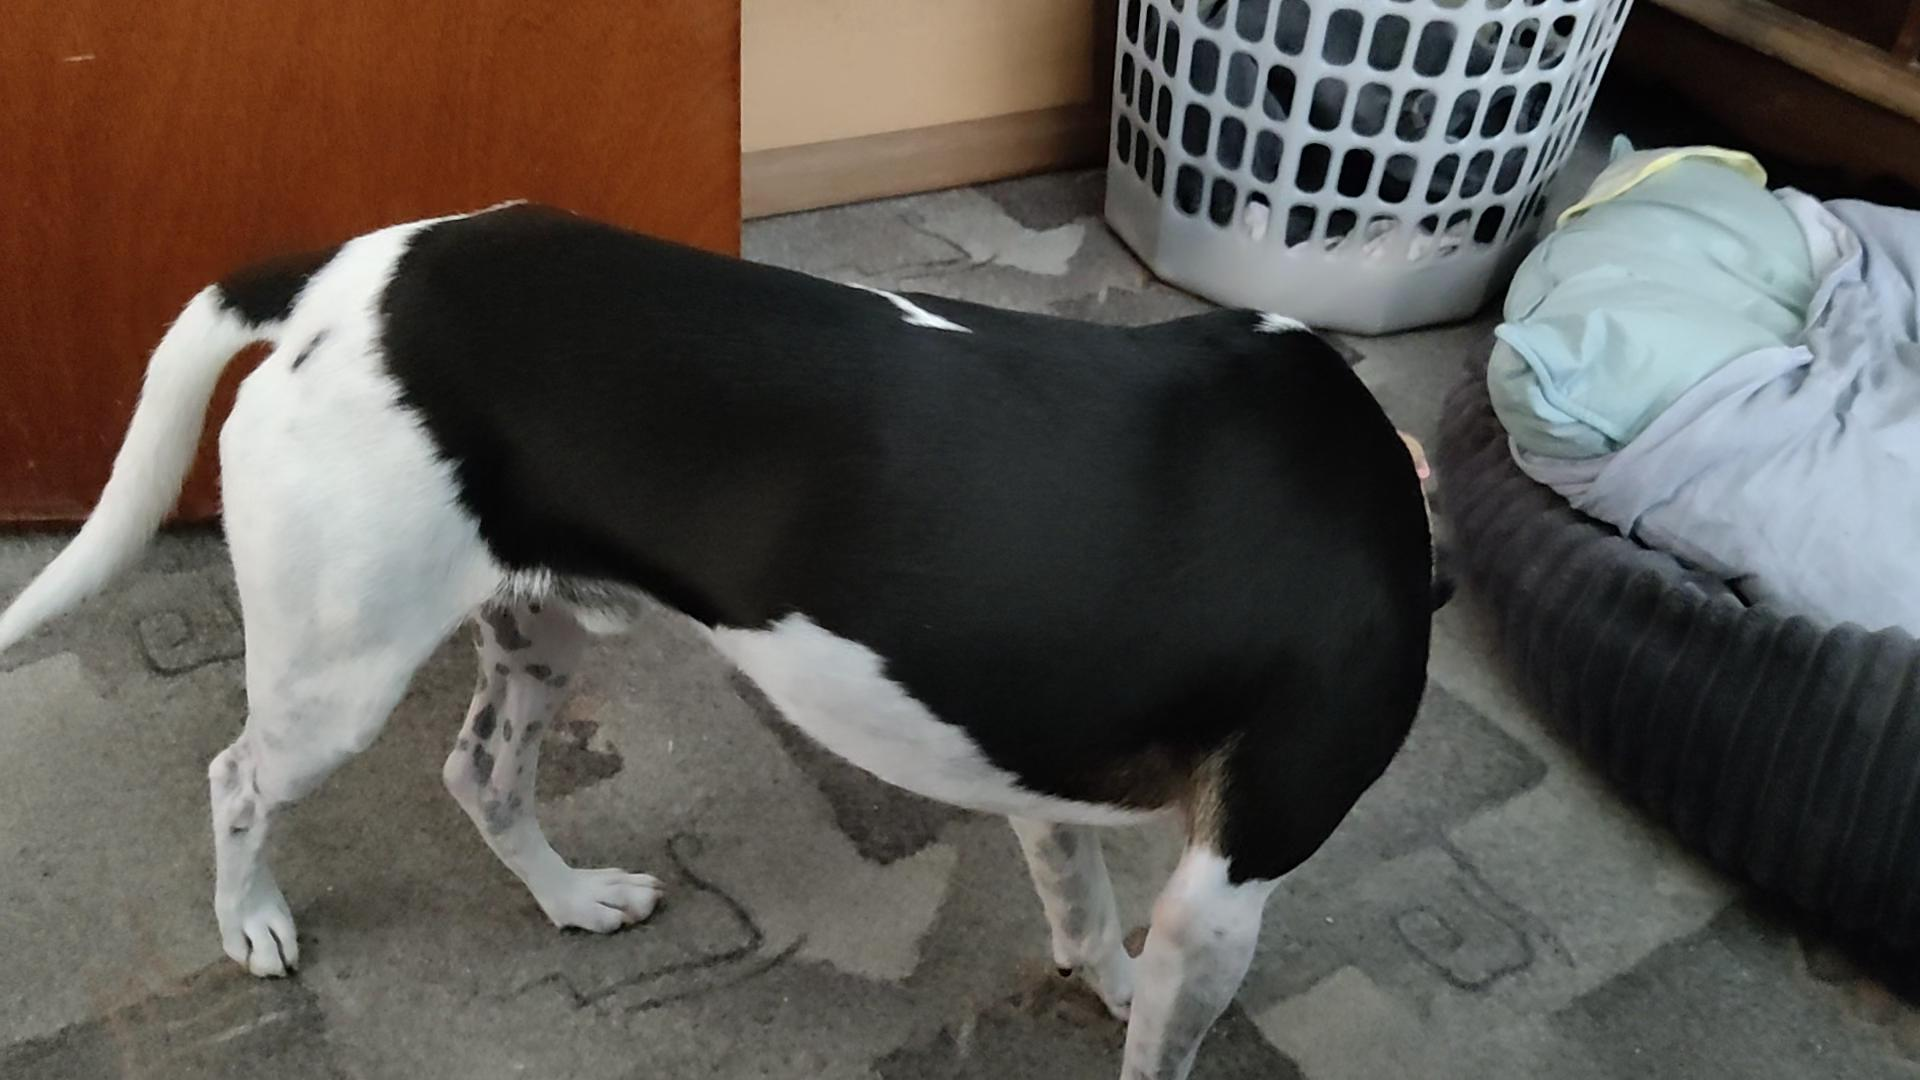Dog: (0, 140, 1482, 1079)
